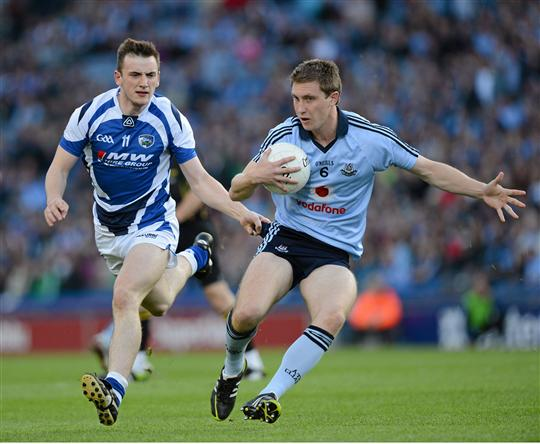ball: (257, 145, 310, 192)
player: (234, 44, 366, 403), (57, 43, 186, 399)
